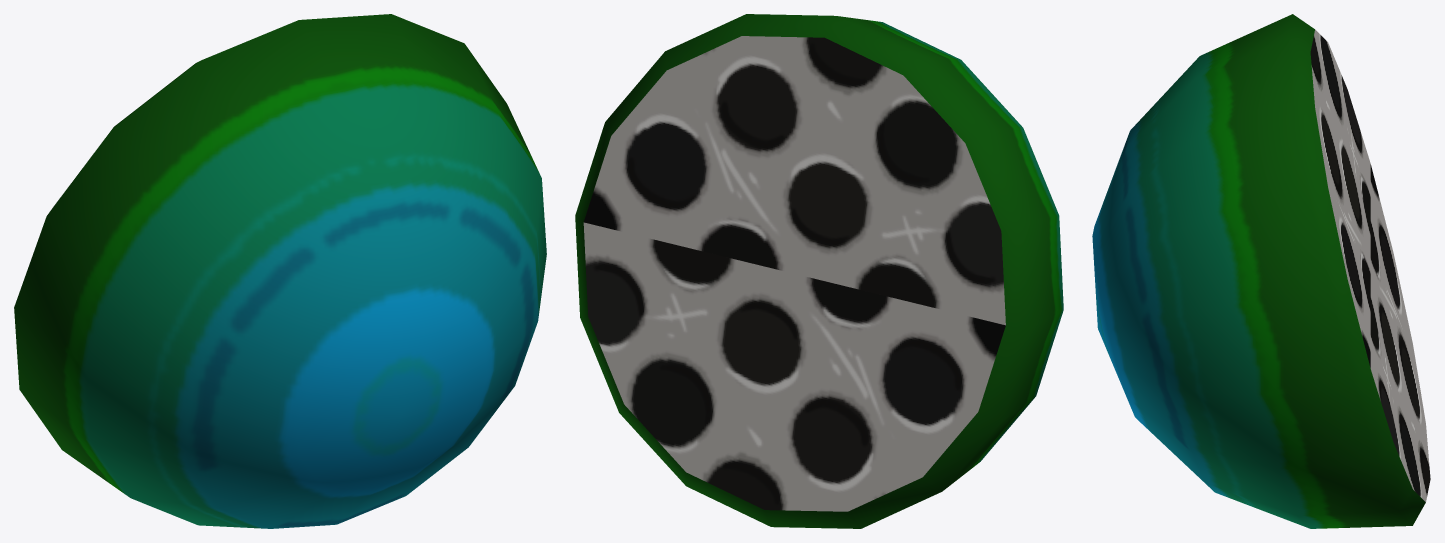
The model's file is spaceshipDoorMAPPED.FBX.
The picture shows the model from 3 angles, left to right: view 1: azimuth 30°, elevation 25°; view 2: azimuth 150°, elevation 25°; view 3: azimuth 270°, elevation 25°; orthographic projection. The views are drawn at different scales.
Visible parts, largest first — view 1: door; view 2: door; view 3: door.
Boxes of the visible parts, box(x1,y1,x2,y2) form: door: box(14, 14, 546, 528); door: box(575, 14, 1063, 528); door: box(1092, 14, 1430, 528).
Bounding box in the file's own units: 166 × 107 × 162.
